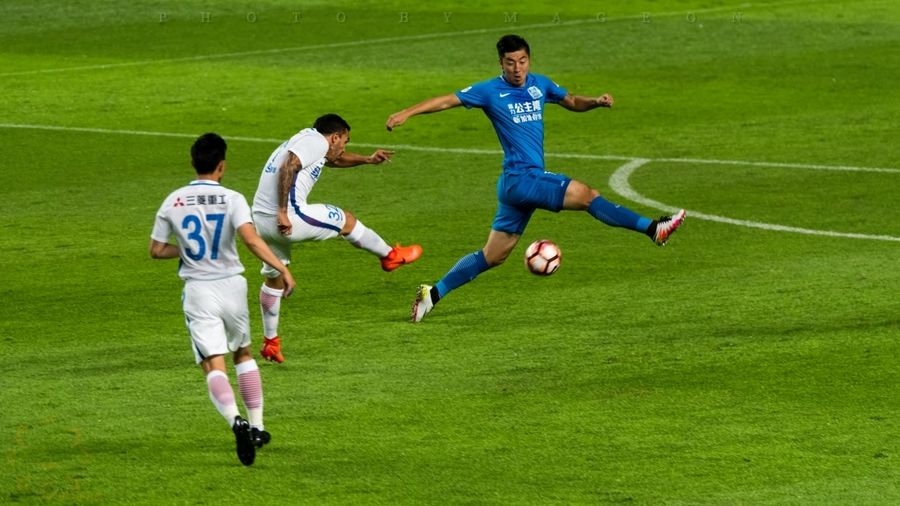football: (525, 241, 562, 277)
